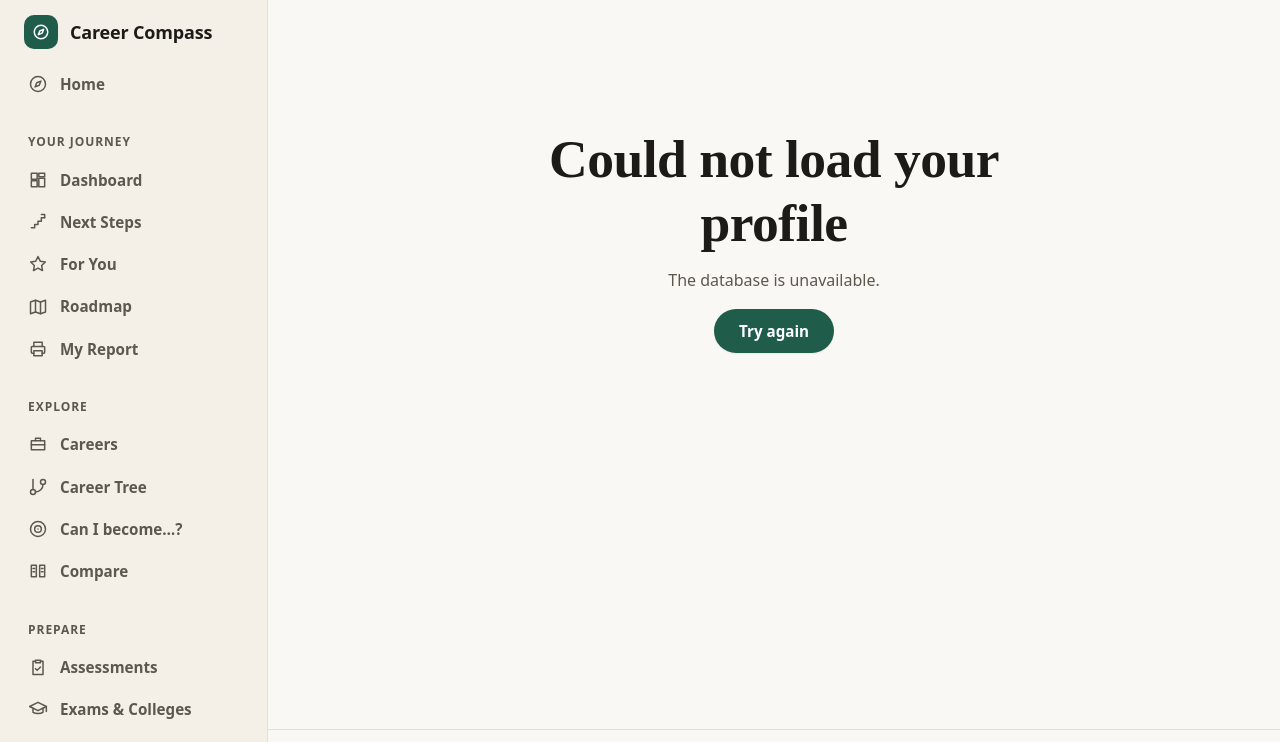
Profile form › shows a retry screen when the profile cannot load
Expected: the message "Could not load your profile The database is unavailable. Try again" is shown, [549,129,999,353]
Click the button "Try again". click: (774, 331)
box: [714,309,834,353]
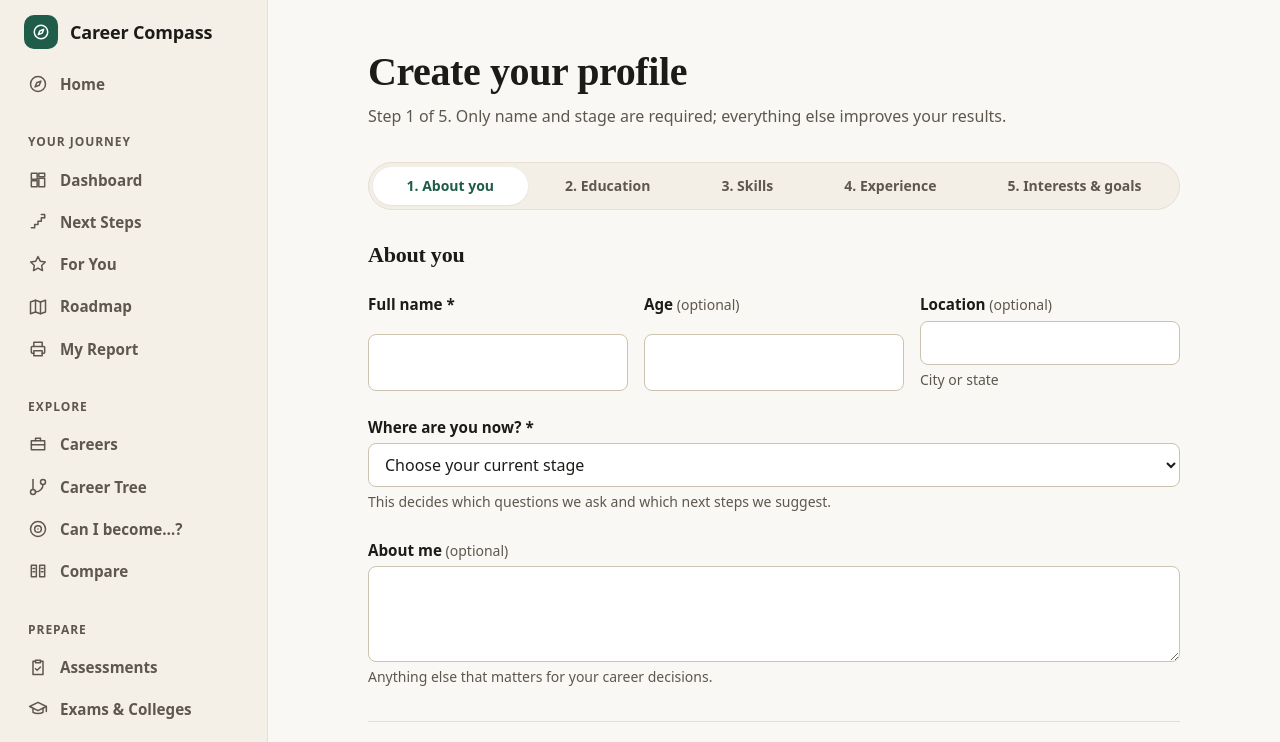
Result: the heading "Create your profile" is shown at [368,49,687,94]
